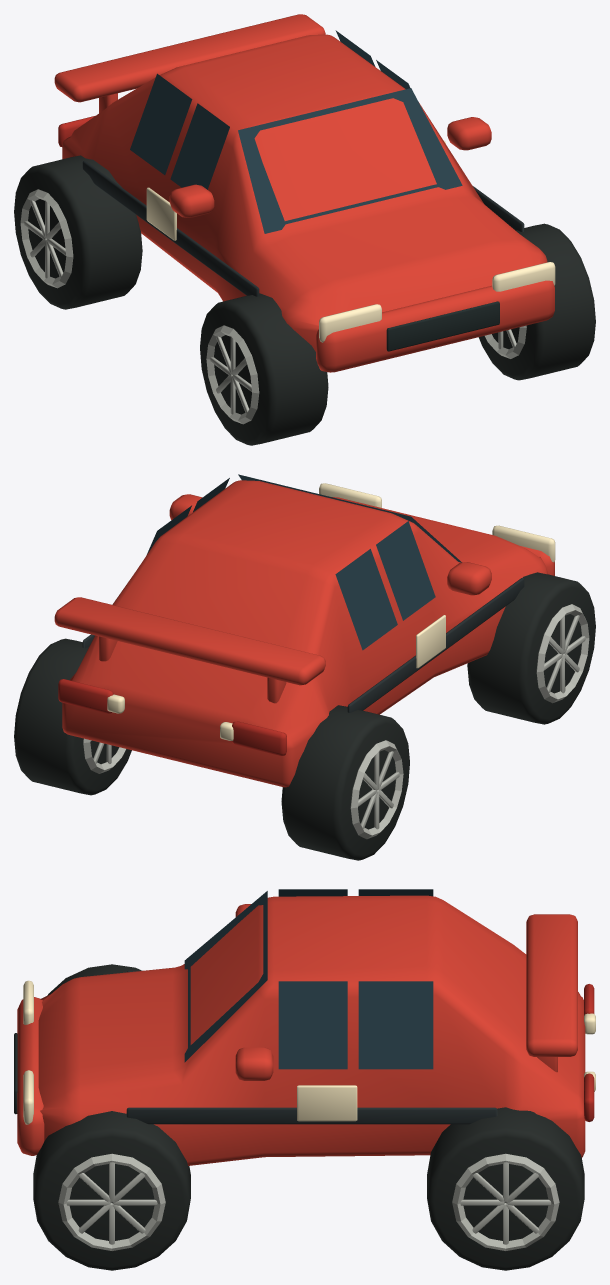
The model's file is car-5.glb.
3 renders of one model, top to bottom at view 1: azimuth 30°, elevation 25°; view 2: azimuth 150°, elevation 25°; view 3: azimuth 270°, elevation 25°, orthographic. The views are drawn at different scales.
Visible parts, largest first — view 1: body_surface.005, side_window.005, flat_tyre.021, flat_tyre.020, flat_tyre.022, rally_stripe.005, rim.020, rim.021, intake.005, headlamp_-0.005, headlamp_0.005, door_number.005 (+1 smaller); view 2: body_surface.005, flat_tyre.021, flat_tyre.020, flat_tyre.023, side_window.005, rim.021, rim.020, rally_stripe.005, taillamp_-0.005, taillamp_0.005, door_number.005, headlamp_-0.005 (+2 smaller); view 3: body_surface.005, side_window.005, flat_tyre.023, flat_tyre.022, rally_stripe.005, rim.022, rim.023, door_number.005, flat_tyre.020, headlamp_0.005, taillamp_0.005.
Part boxes in pixels (x1,y1,x2,y2): body_surface.005: (54, 14, 554, 372); side_window.005: (130, 30, 462, 233); flat_tyre.021: (14, 155, 142, 309); flat_tyre.020: (200, 293, 328, 445); flat_tyre.022: (478, 223, 595, 380); rally_stripe.005: (82, 160, 524, 296); rim.020: (206, 325, 259, 424); rim.021: (20, 189, 73, 288); intake.005: (386, 301, 499, 351); headlamp_-0.005: (319, 304, 381, 342); headlamp_0.005: (492, 262, 555, 291); door_number.005: (146, 140, 445, 240); body_surface.005: (54, 480, 554, 787); flat_tyre.021: (281, 705, 409, 860); flat_tyre.020: (467, 572, 595, 724); flat_tyre.023: (14, 638, 131, 795); side_window.005: (147, 474, 461, 650); rim.021: (350, 740, 403, 839); rim.020: (536, 604, 589, 703); rally_stripe.005: (82, 577, 524, 712); taillamp_-0.005: (232, 721, 286, 755); taillamp_0.005: (58, 679, 113, 713); door_number.005: (416, 615, 445, 668); headlamp_-0.005: (492, 525, 555, 562); body_surface.005: (17, 895, 585, 1165); side_window.005: (184, 889, 433, 1069); flat_tyre.023: (427, 1107, 584, 1270); flat_tyre.022: (33, 1111, 190, 1270); rally_stripe.005: (126, 970, 497, 1124); rim.022: (58, 1153, 165, 1250); rim.023: (452, 1153, 559, 1250); door_number.005: (297, 1085, 357, 1121); flat_tyre.020: (47, 964, 141, 995); headlamp_0.005: (23, 1070, 33, 1124); taillamp_0.005: (584, 1073, 594, 1121).
Bounding box in the file's own units: 2.72 × 1.86 × 3.84.
